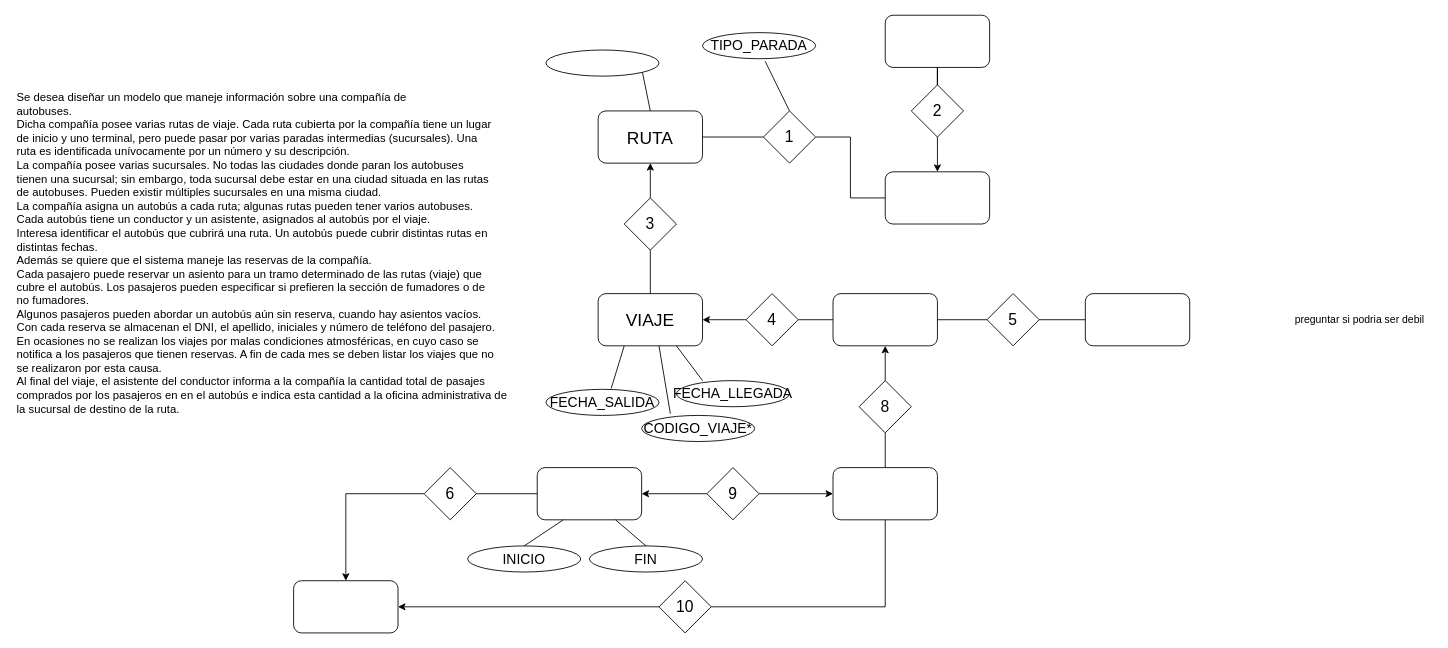
This 1448x648 diagram has some shape labels left out. Here are the shapes that lost their labels. From the top down, the centre of each, then its label:
At point 937,40: "SUCURSAL".
At point 602,62: "CODIGO_RUTA*".
At point 937,197: "CIUDAD".
At point 884,319: "AUTOBUS".
At point 1137,319: "PERSONAL".
At point 589,493: "RESERVA".
At point 884,493: "ASIENTO".
At point 345,606: "PASAJERO".
